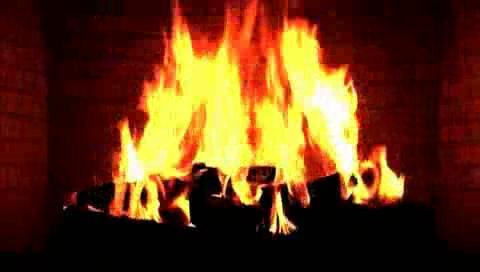fire: (106, 0, 408, 231)
